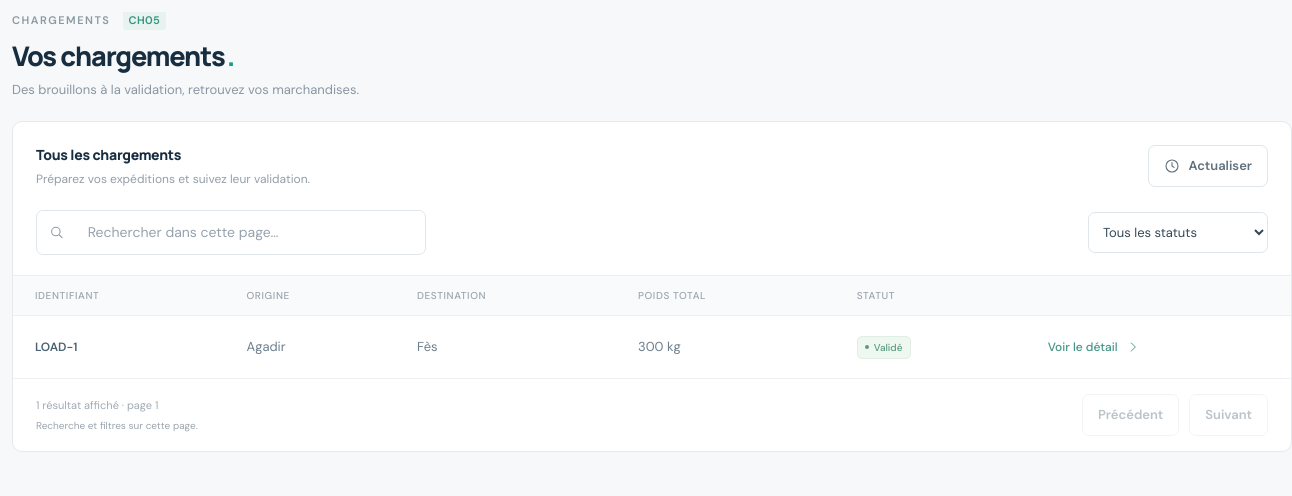
Test: filtre les chargements par destination sans changer les données
Expected: the text "Fès" is shown, left=395, top=315, right=616, bottom=378
Type "Rabat" into the field with placeholder "Rechercher dans cette page…" at (244, 232), box left=75, top=211, right=413, bottom=254
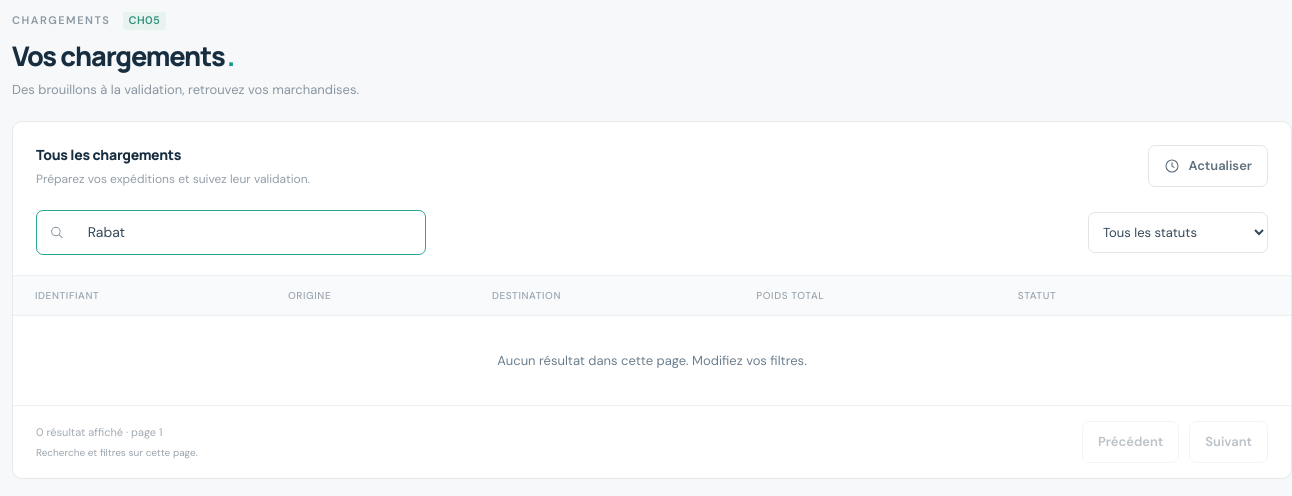
Now the text "Fès" is gone
